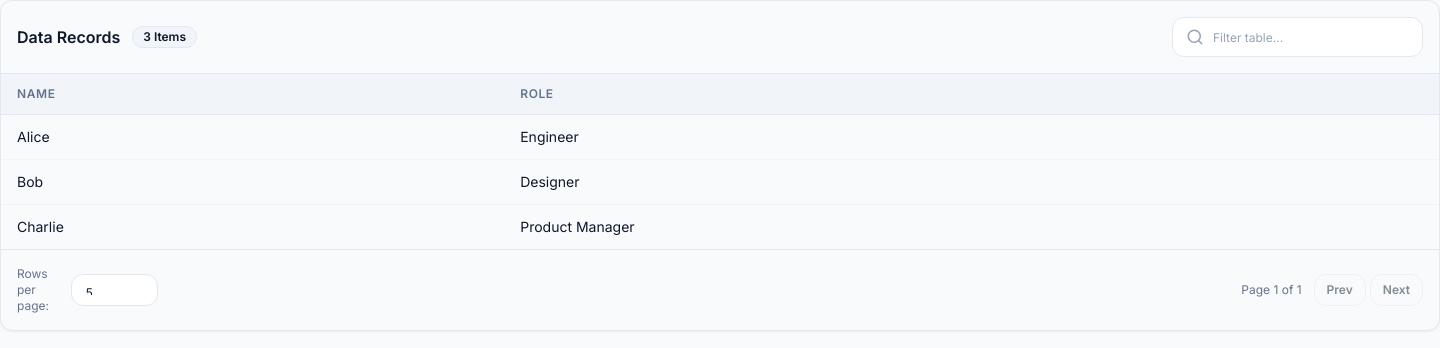
Test: DataTable Organism › filters data when search input is used
Type "Alice" into the field with placeholder "Filter table..." at (1298, 37), box [1172,17,1423,57]
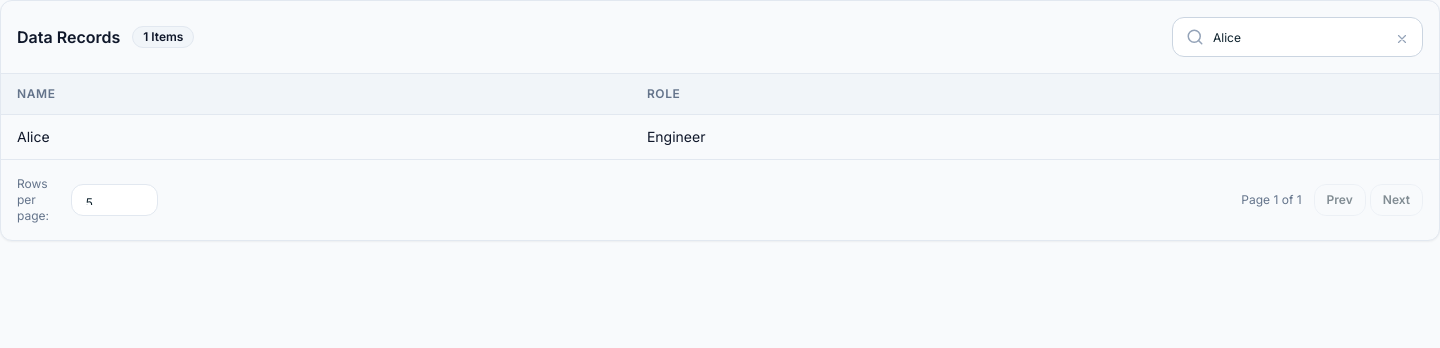
Expected: the text "Alice" is shown, [1,114,631,159]
Expected: the text "Bob" is gone
